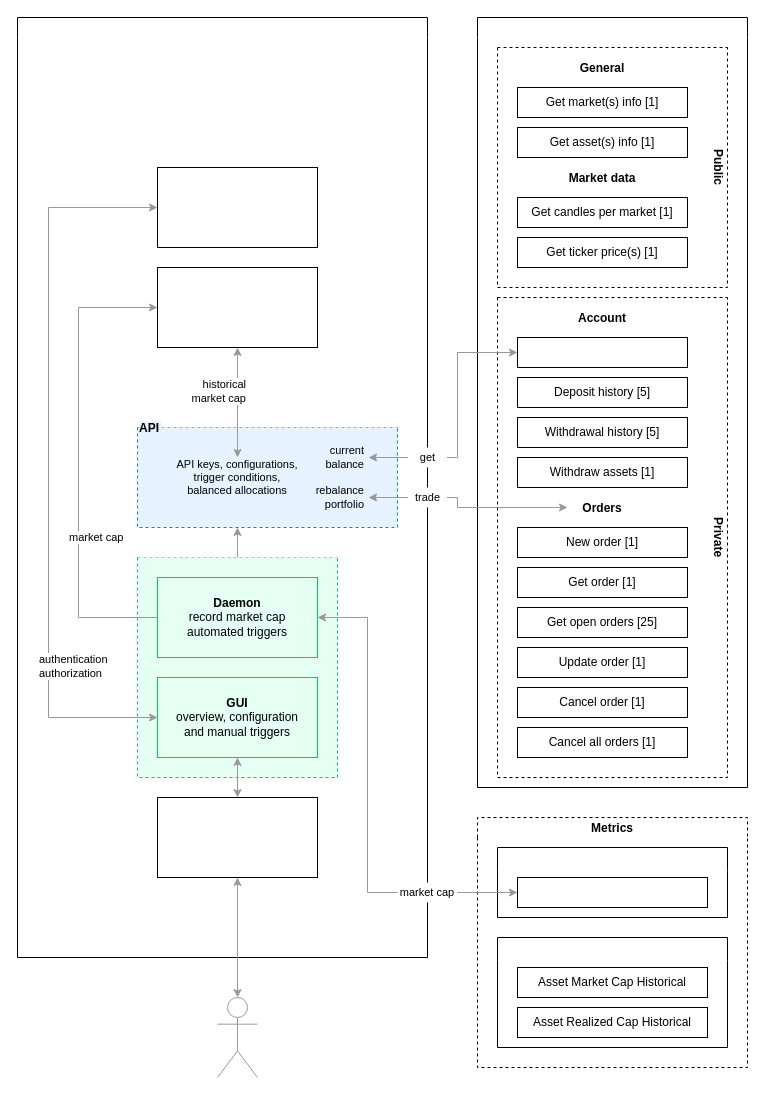
This 765x1095 diagram has some shape labels left out. Here are the shapes that lost their labels. From the top down, the box of each, then its label:
(156, 166, 318, 248): SQL database users
(156, 266, 318, 348): NoSQL database API keys, configurations, historical market cap
(516, 336, 688, 368): Get balance [5]
(476, 16, 748, 788): Exchange API [1.000/min]
(16, 16, 428, 958): Trader Platform
(156, 796, 318, 878): nginx reverse-proxy and SSL
(496, 846, 728, 918): CoinMarketCap API [10.000/month]
(516, 876, 708, 908): Listings Latest [1/200/convert]
(496, 936, 728, 1048): CoinMetrics API [unlimited]
